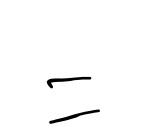eqv: (46, 76, 100, 123)
